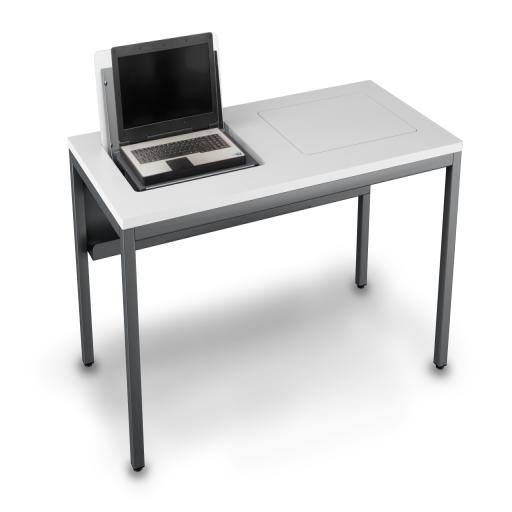desk: (67, 79, 463, 471)
